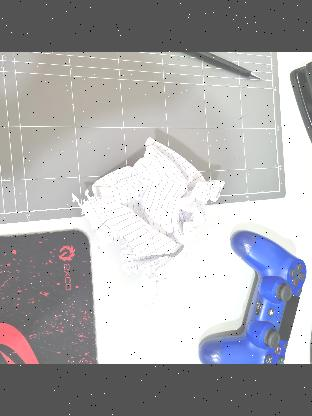Others: (82, 138, 227, 302)
